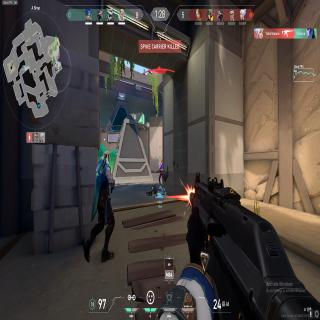ENEMY-BODY: (158, 160, 164, 186)
ENEMY-HEAD: (160, 159, 162, 164)
